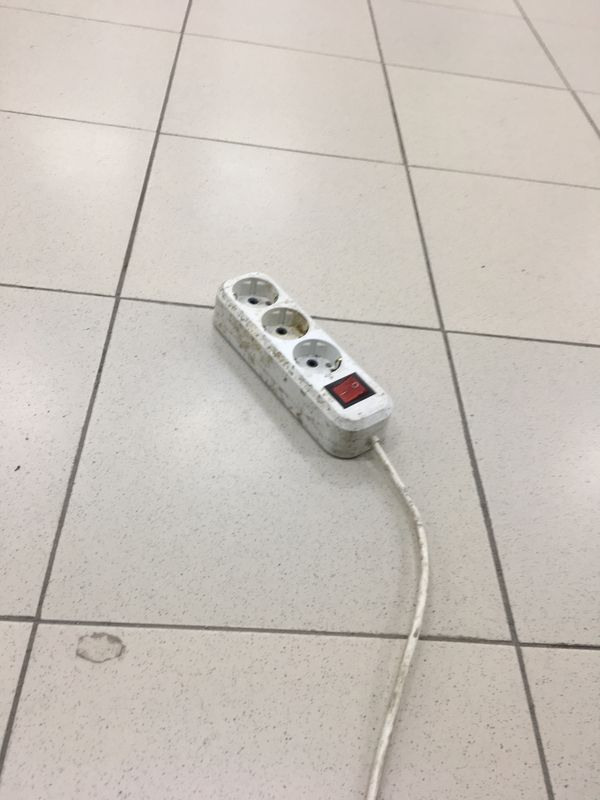socket: (206, 266, 420, 469)
